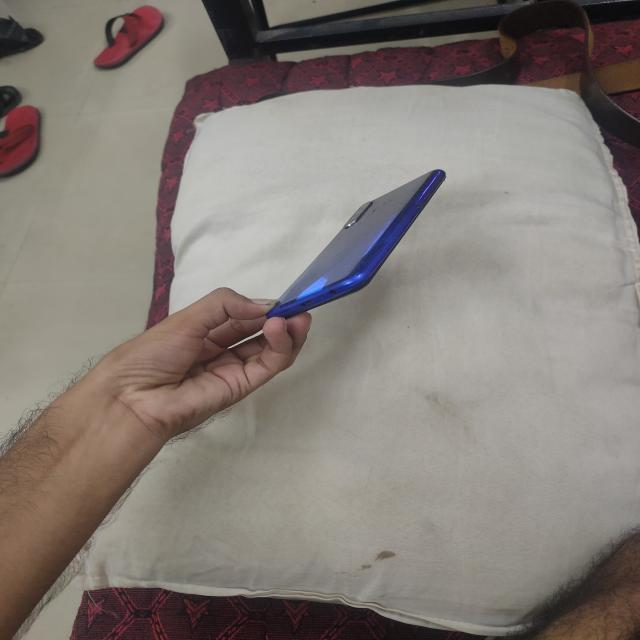Phone: (263, 166, 451, 324)
